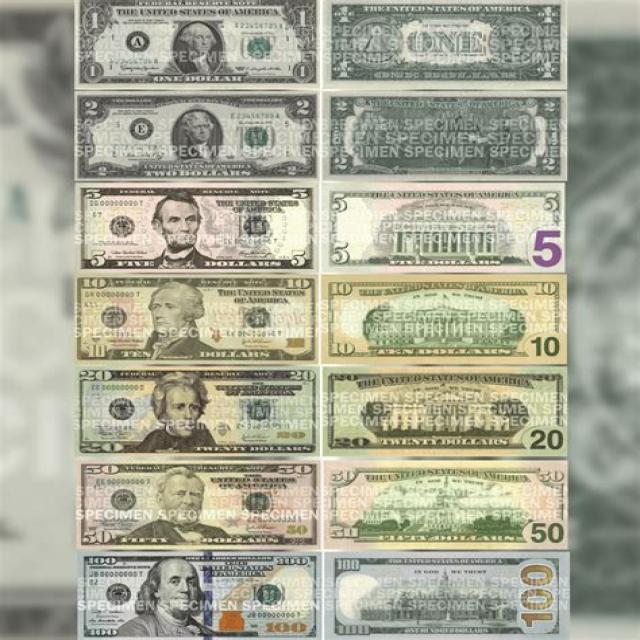Fifty: (323, 461, 568, 551), (77, 460, 321, 549)
Five: (73, 182, 320, 274), (323, 182, 569, 274)
Hundred: (322, 551, 570, 640), (79, 551, 322, 640)
One: (74, 1, 318, 88), (324, 0, 564, 87)
Ten: (73, 274, 319, 366), (320, 274, 568, 365)
Twenty: (322, 364, 571, 455), (74, 366, 320, 458)
Two: (76, 89, 320, 181), (323, 90, 568, 181)
